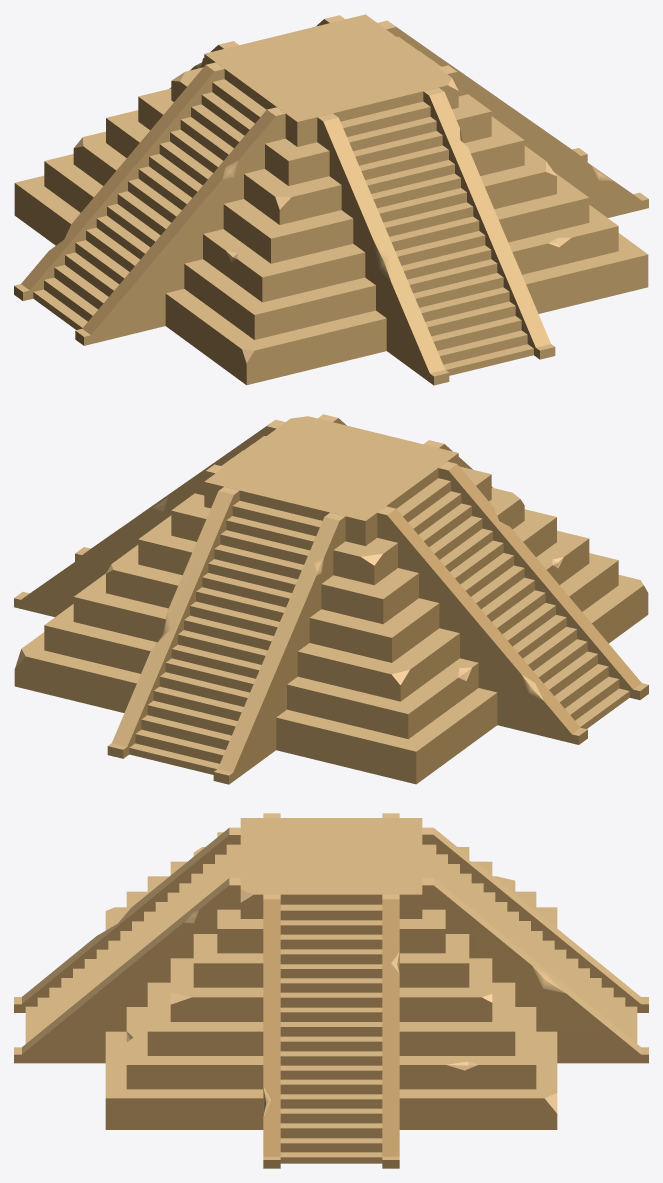
The model's file is ST_Env_TempleBase_01.fbx.
The picture shows the model from 3 angles, top to bottom: view 1: azimuth 30°, elevation 25°; view 2: azimuth 150°, elevation 25°; view 3: azimuth 270°, elevation 25°; orthographic projection. The views are drawn at different scales.
Visible parts, largest first — view 1: ST_Env_TempleBase_01; view 2: ST_Env_TempleBase_01; view 3: ST_Env_TempleBase_01.
Part boxes in pixels (x1,y1,x2,y2): ST_Env_TempleBase_01: (14, 14, 648, 385); ST_Env_TempleBase_01: (14, 414, 648, 784); ST_Env_TempleBase_01: (14, 813, 648, 1168).
Size of the model in its own units: 47.15 by 14.61 by 47.15.
